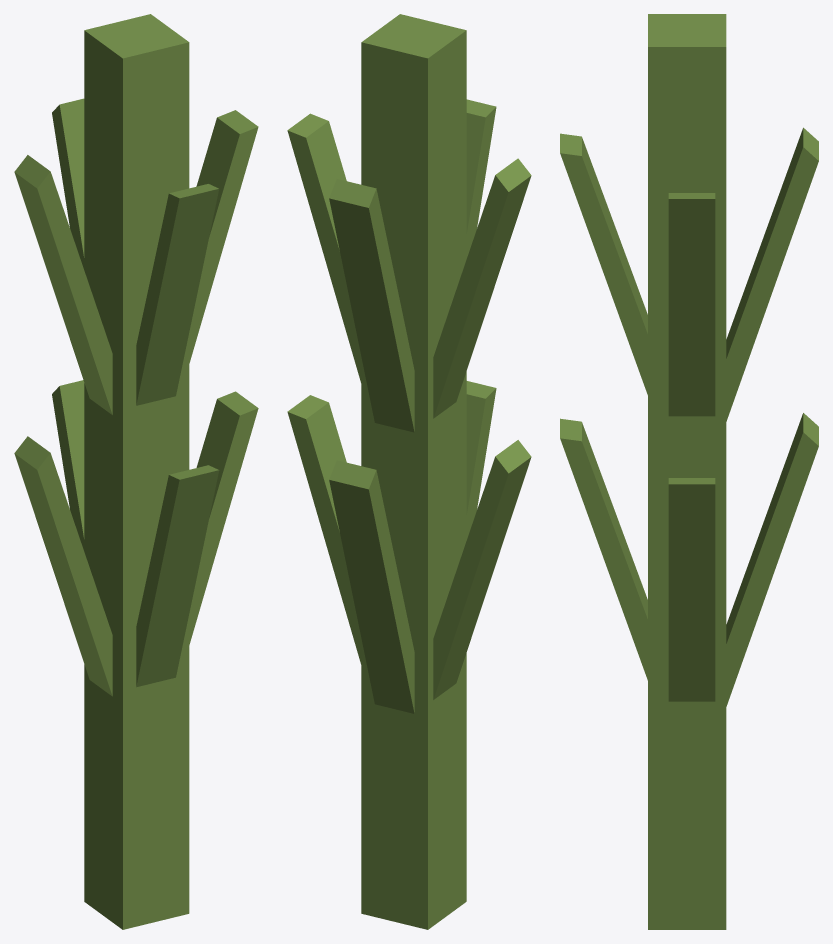
Rendered from herb.fbx.
3 renders of one model, left to right at view 1: azimuth 30°, elevation 25°; view 2: azimuth 150°, elevation 25°; view 3: azimuth 270°, elevation 25°, orthographic.
Visible parts, largest first — view 1: Cube_12; view 2: Cube_12; view 3: Cube_12.
Boxes of the visible parts, left/top/right/bottom form: Cube_12: left=14, top=14, right=258, bottom=929; Cube_12: left=287, top=14, right=531, bottom=929; Cube_12: left=560, top=14, right=818, bottom=929.
Bounding box in the file's own units: 34.53 × 130 × 34.53.
